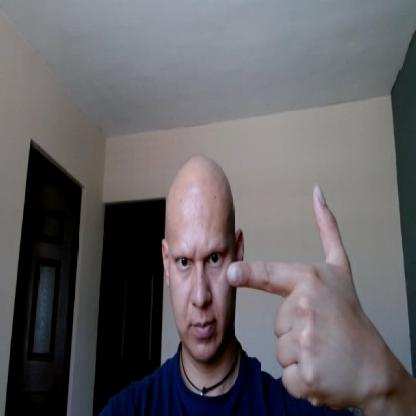G: (227, 181, 364, 408)
